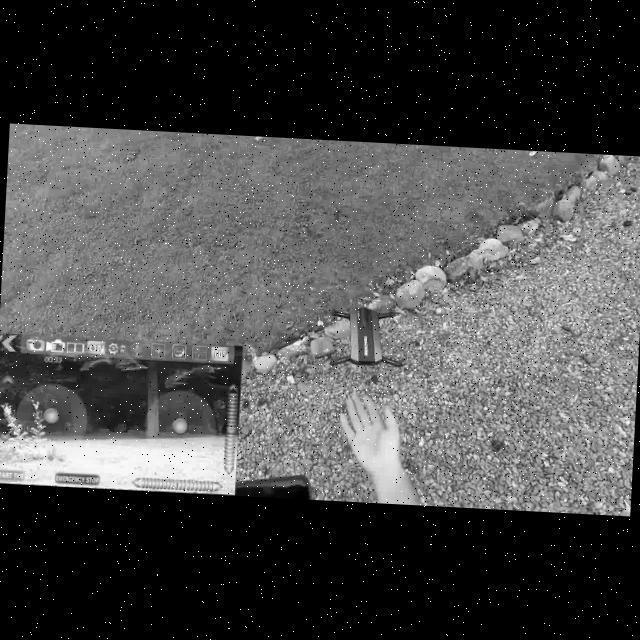Drons: (310, 294, 437, 384)
